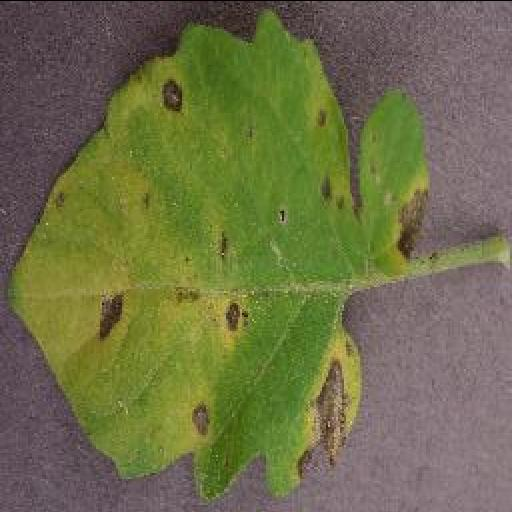disease_tomato: (6, 8, 368, 498)
